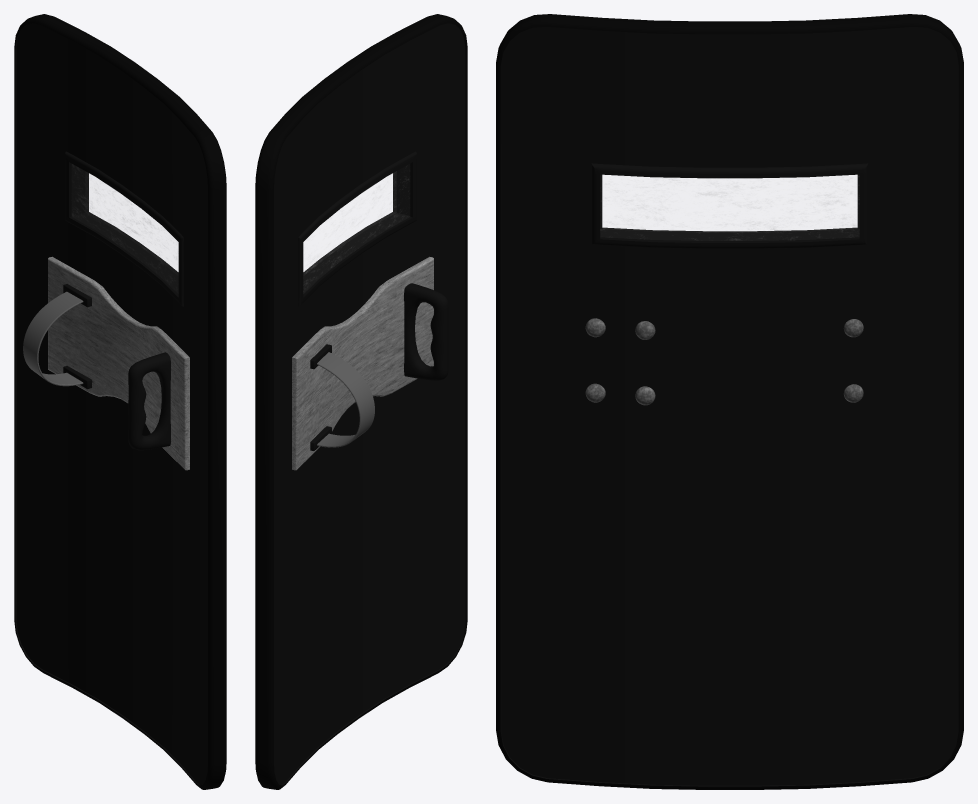
The model's file is shield.glb.
The picture shows the model from 3 angles, left to right: view 1: azimuth 30°, elevation 25°; view 2: azimuth 150°, elevation 25°; view 3: azimuth 270°, elevation 25°; orthographic projection. The views are drawn at different scales.
Visible parts, largest first — view 1: Plane.003_0; view 2: Plane.003_0; view 3: Plane.003_0.
Boxes of the visible parts, box(x1,y1,x2,y2) form: Plane.003_0: box(14, 14, 226, 789); Plane.003_0: box(255, 14, 467, 789); Plane.003_0: box(496, 14, 963, 789).
Size of the model in its own units: 0.1623 by 1.28 by 0.7115.
7 materials, 7 textured.
